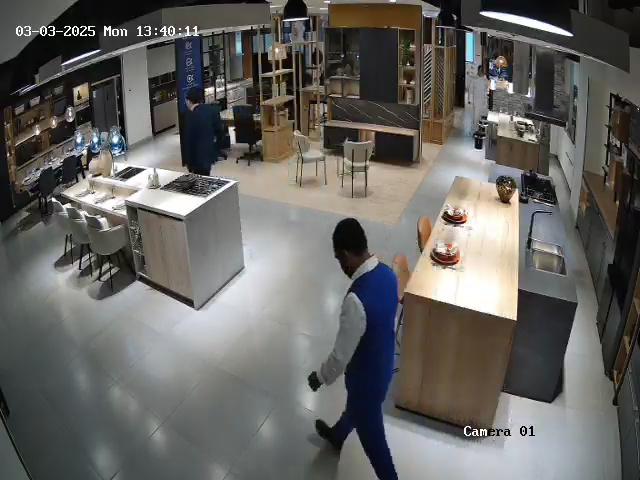employee: (307, 217, 400, 480), (182, 85, 224, 176)
male: (463, 54, 490, 147)
